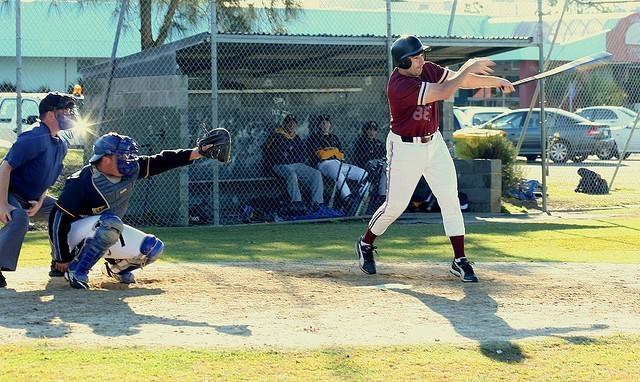car: (461, 107, 612, 164), (573, 106, 640, 160), (0, 98, 41, 123), (464, 107, 512, 126)
